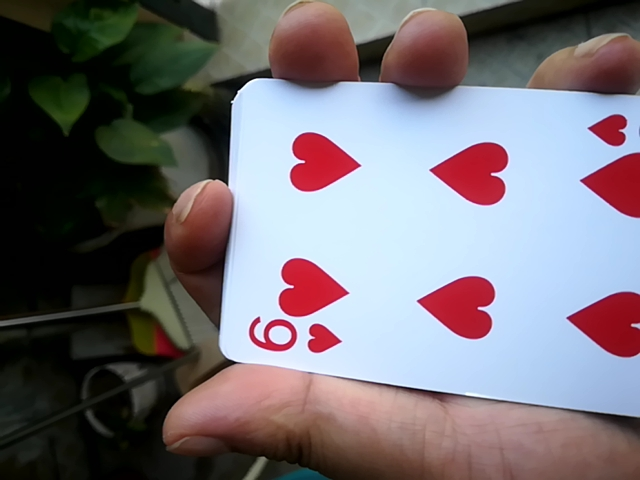hx 6: (211, 79, 633, 412)
